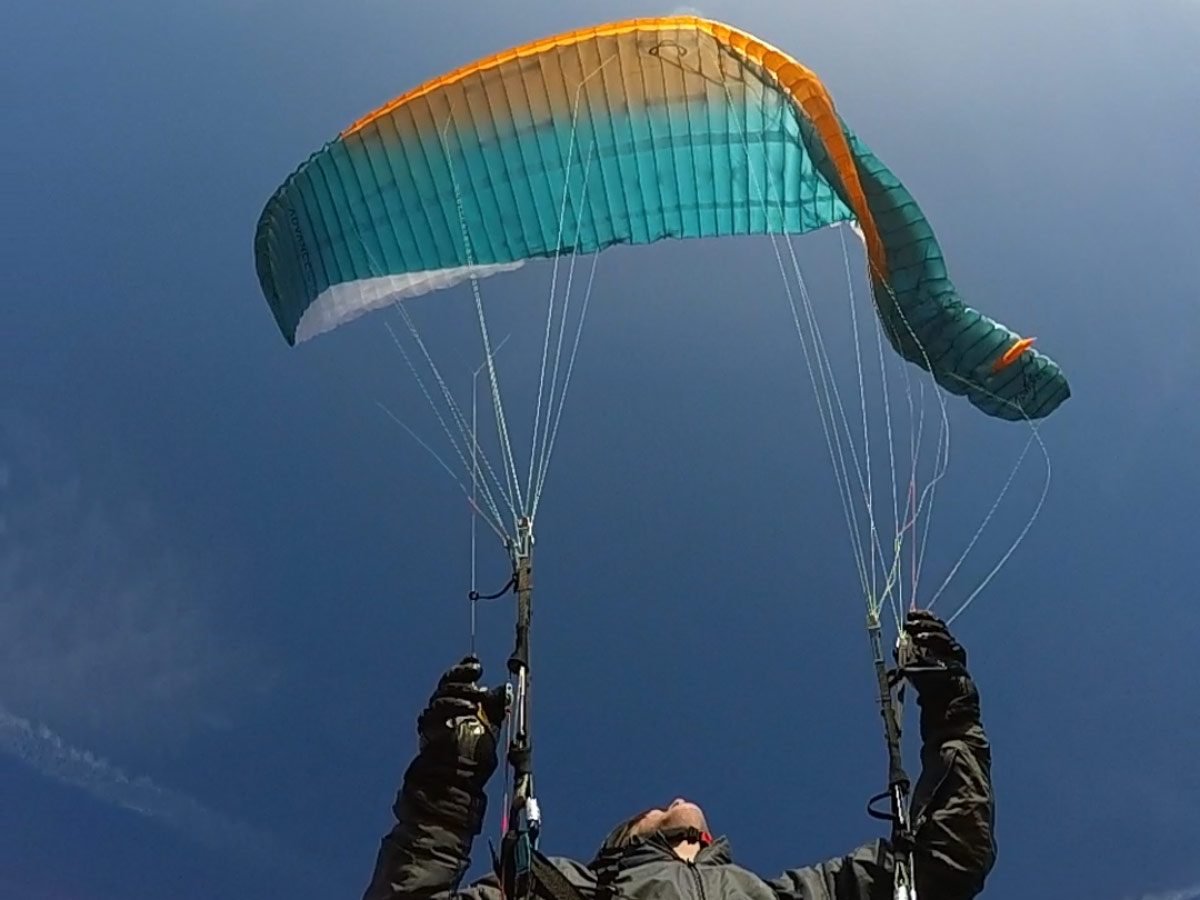Paraglider: (223, 7, 1084, 422)
